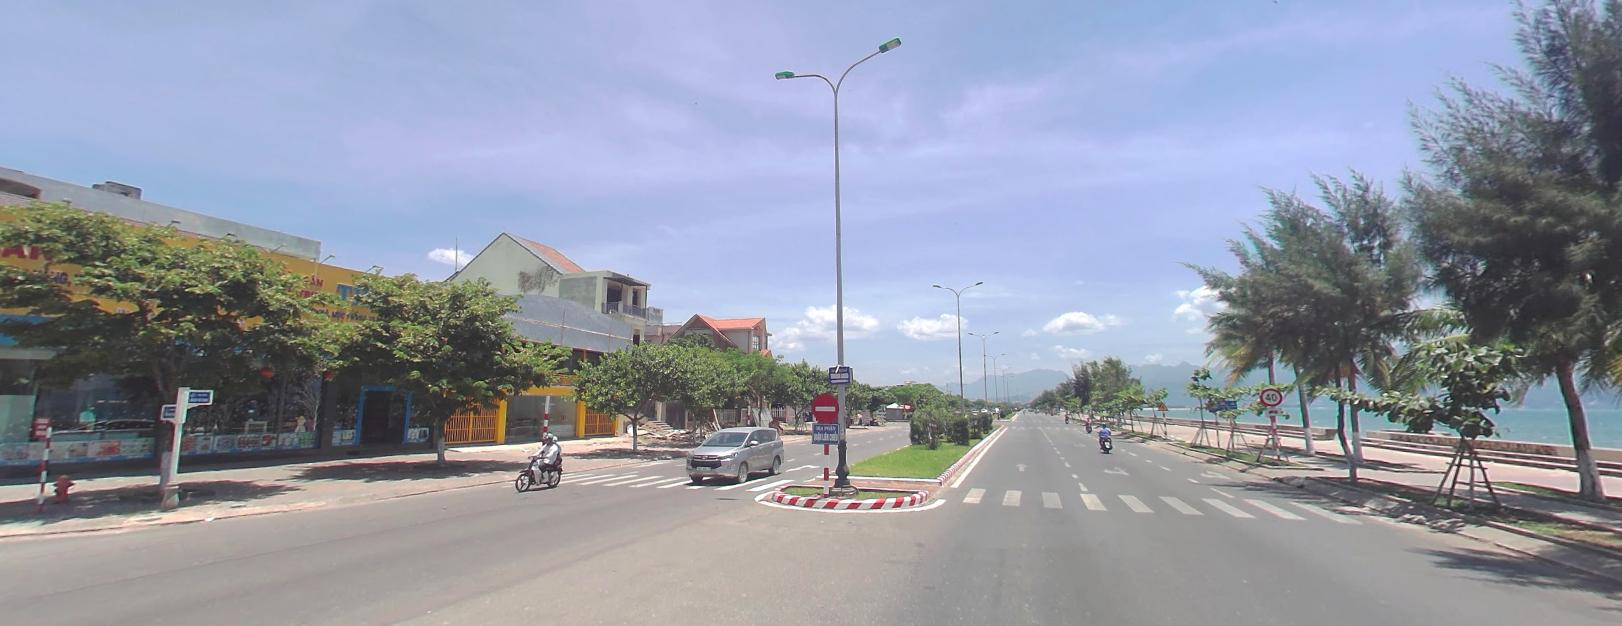Cam nguoc chieu: (805, 390, 841, 421)
Gioi han toc do: (1256, 386, 1286, 406)
Nguy hiem: (1157, 399, 1171, 411)
